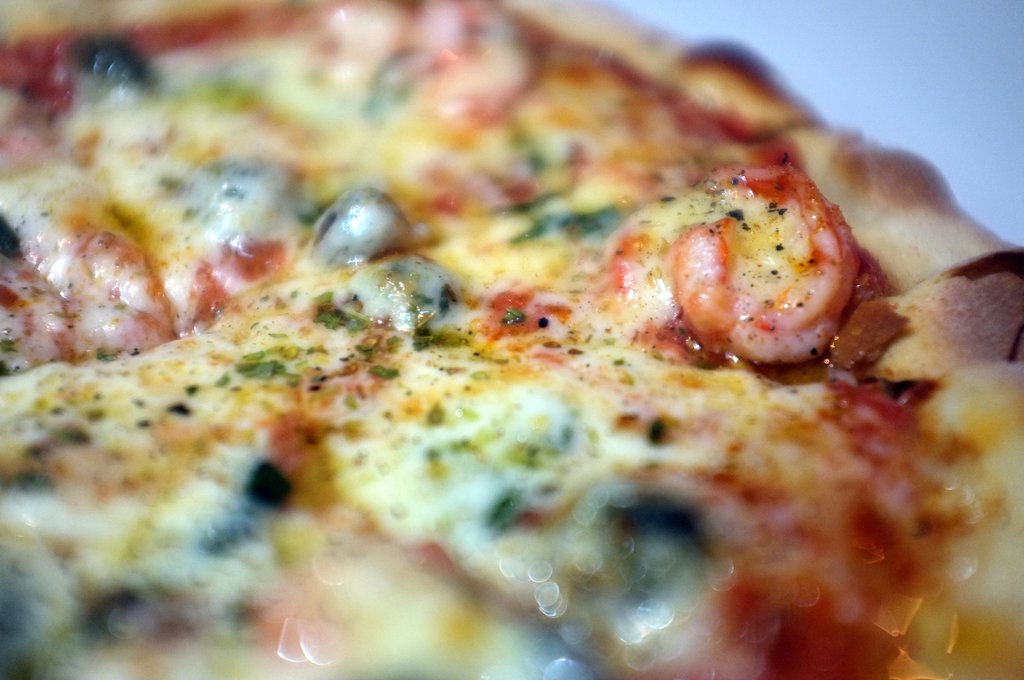Pizza: (1, 0, 995, 680)
